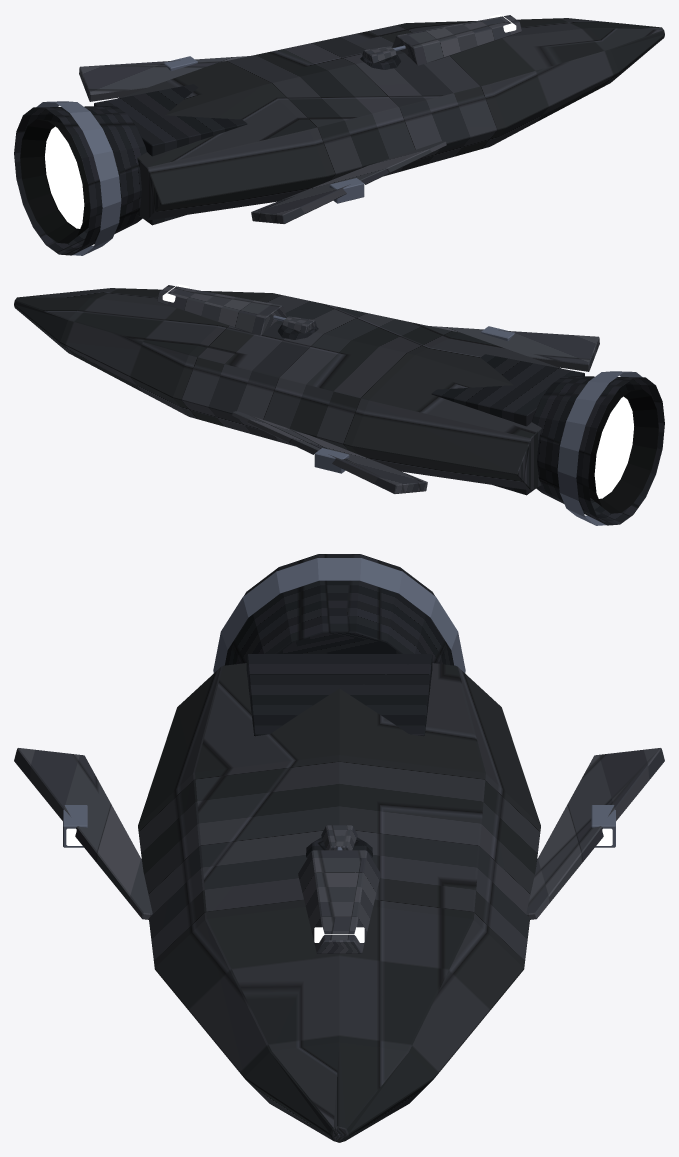
The model's file is patrol.glb.
The picture shows the model from 3 angles, top to bottom: view 1: azimuth 30°, elevation 25°; view 2: azimuth 150°, elevation 25°; view 3: azimuth 270°, elevation 25°; orthographic projection. The views are drawn at different scales.
Visible parts, largest first — view 1: patrol; view 2: patrol; view 3: patrol.
Part boxes in pixels (bbox=[...]): patrol: bbox=[14, 14, 664, 255]; patrol: bbox=[14, 284, 664, 525]; patrol: bbox=[14, 554, 664, 1142].
Bounding box in the file's own units: 14 × 3.11 × 8.15.
Materials: 1 (1 with a texture image).
